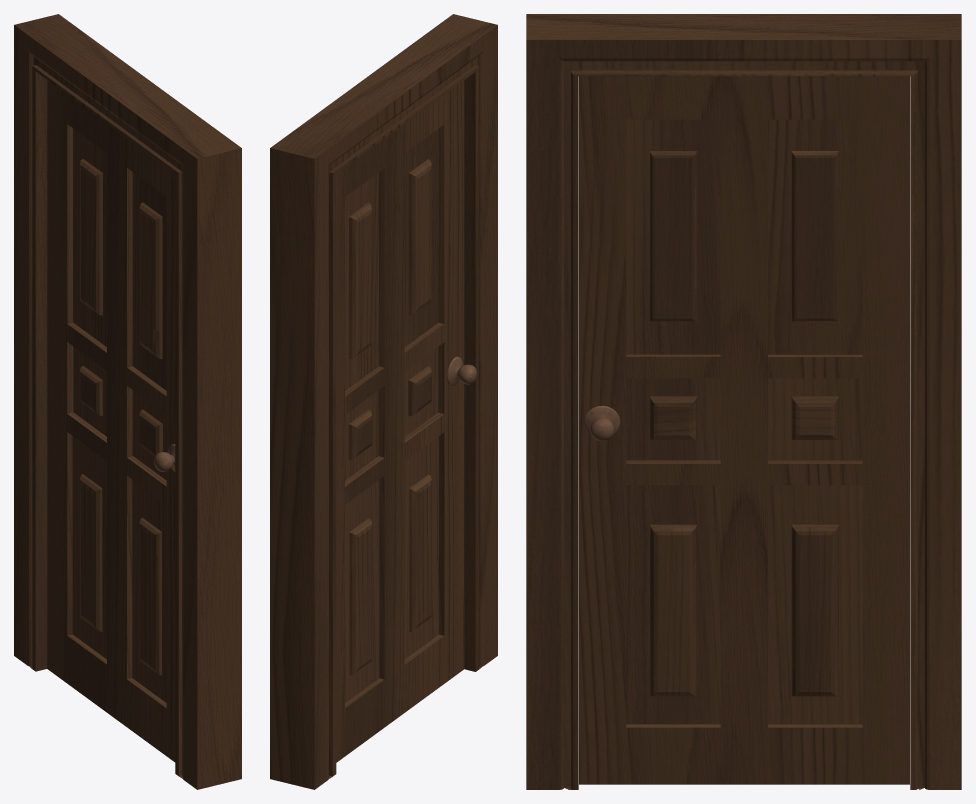
The model's file is Wooden Door.glb.
The picture shows the model from 3 angles, left to right: view 1: azimuth 30°, elevation 25°; view 2: azimuth 150°, elevation 25°; view 3: azimuth 270°, elevation 25°; orthographic projection. The views are drawn at different scales.
Parts seen in each view (by area): view 1: Puerta, Marco de puerta; view 2: Puerta, Marco de puerta; view 3: Puerta, Marco de puerta.
Part boxes in pixels (x1,y1,x2,y2): Puerta: (47,80,175,762); Marco de puerta: (14,14,241,789); Puerta: (336,80,464,762); Marco de puerta: (270,14,497,789); Puerta: (579,76,909,784); Marco de puerta: (526,14,961,789).
Bounding box in the file's own units: 0.2171 × 2 × 1.05.
3 materials, 3 textured.
